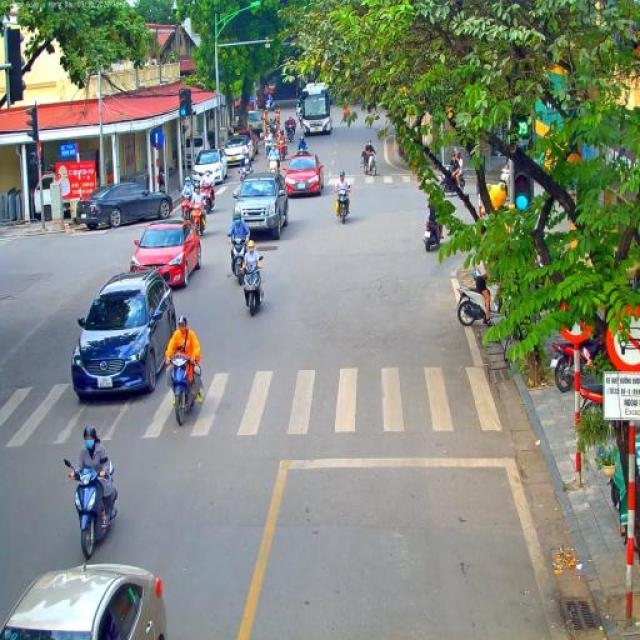bus: (497, 59, 640, 215), (297, 80, 333, 136)
car: (72, 270, 178, 400), (0, 561, 169, 639), (130, 219, 202, 292), (78, 183, 174, 231), (233, 172, 289, 239), (282, 154, 324, 196), (192, 148, 228, 187), (222, 133, 254, 168), (233, 130, 259, 156), (248, 111, 264, 138)
motorcycle: (64, 456, 118, 560), (550, 331, 605, 392), (165, 350, 203, 428), (456, 286, 510, 328), (240, 254, 265, 317), (228, 236, 250, 286), (436, 167, 466, 198), (577, 382, 605, 413), (422, 218, 442, 252), (190, 202, 206, 238), (334, 190, 350, 224), (198, 184, 213, 215), (359, 152, 377, 176), (180, 194, 192, 227), (237, 163, 253, 186), (262, 138, 273, 161), (267, 156, 279, 174), (278, 140, 288, 161), (286, 125, 296, 144), (295, 147, 310, 157)
truck: (232, 113, 250, 146)
